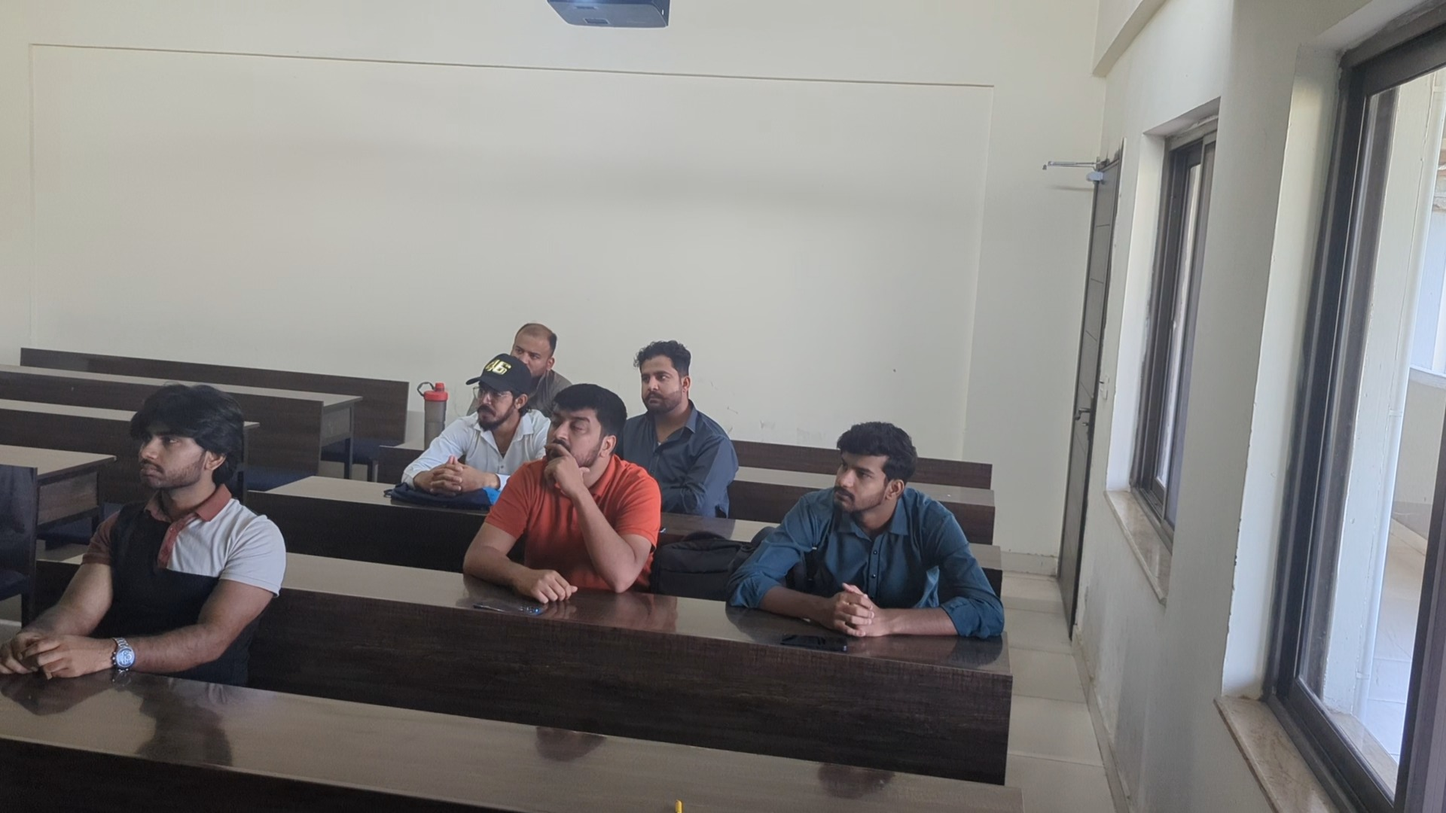look_forward: (48, 362, 250, 669), (821, 410, 968, 635), (622, 347, 761, 536), (453, 336, 527, 493), (499, 298, 575, 379)
sleep: (542, 384, 627, 574)
